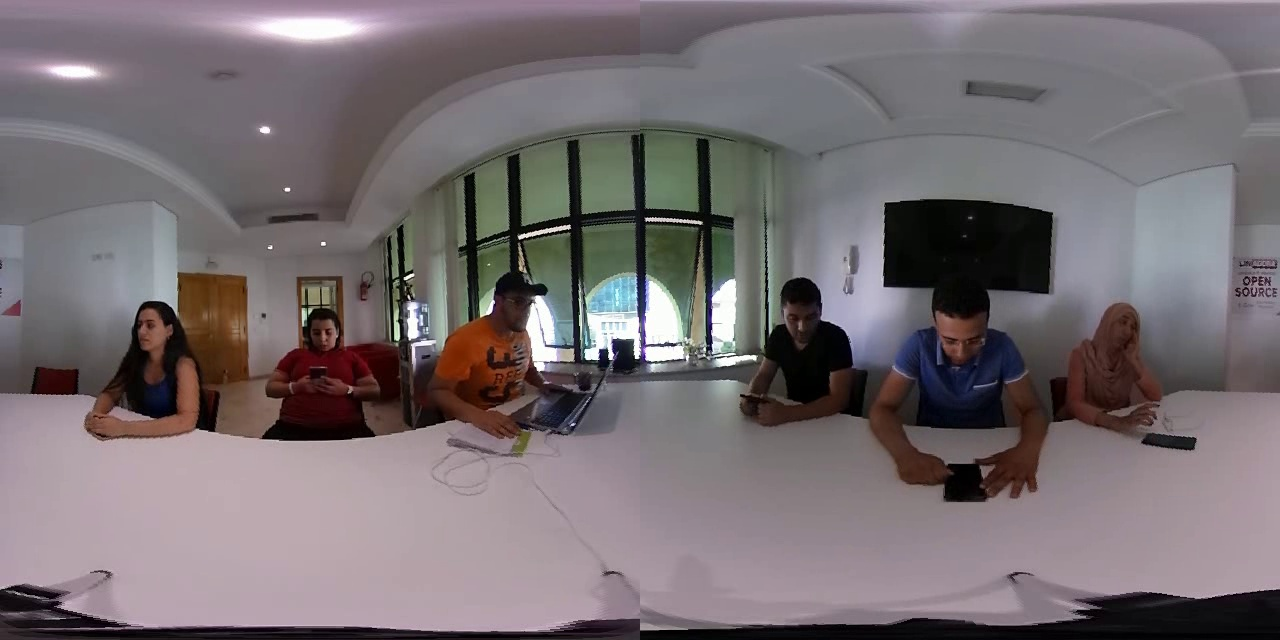person: (869, 270, 1050, 512), (424, 271, 578, 446), (68, 292, 206, 456), (728, 274, 866, 437), (253, 299, 382, 441), (1059, 288, 1166, 443)
